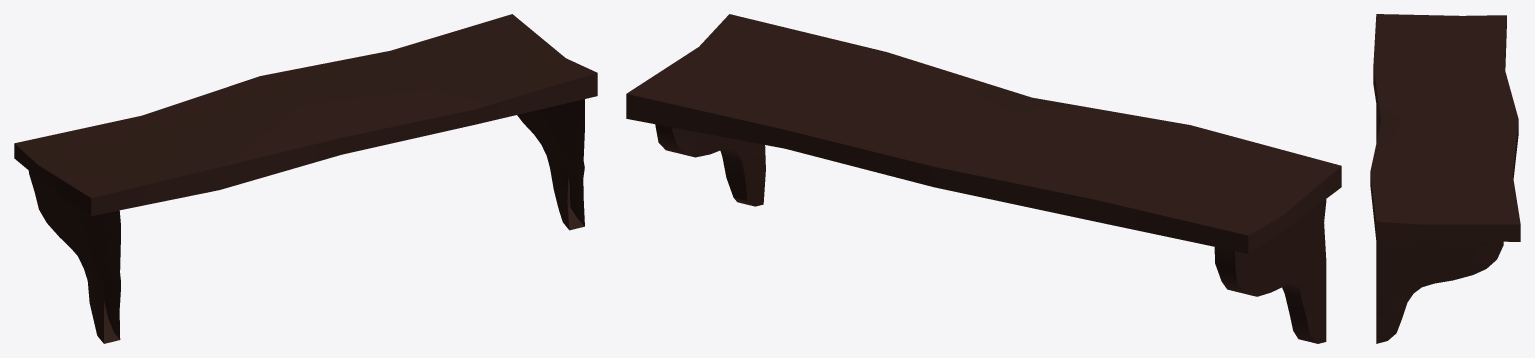
The model's file is SM_WallShelf_001.fbx.
3 views of the same model, side by side, from view 1: azimuth 30°, elevation 25°; view 2: azimuth 150°, elevation 25°; view 3: azimuth 270°, elevation 25° (orthographic). The views are drawn at different scales.
Parts seen in each view (by area): view 1: SM_WallShelf_001; view 2: SM_WallShelf_001; view 3: SM_WallShelf_001.
Boxes of the visible parts, x1=… form: SM_WallShelf_001: x1=14, y1=14, x2=597, y2=343; SM_WallShelf_001: x1=626, y1=14, x2=1341, y2=343; SM_WallShelf_001: x1=1370, y1=14, x2=1520, y2=343.
Size of the model in its own units: 121 by 34.14 by 36.46.
